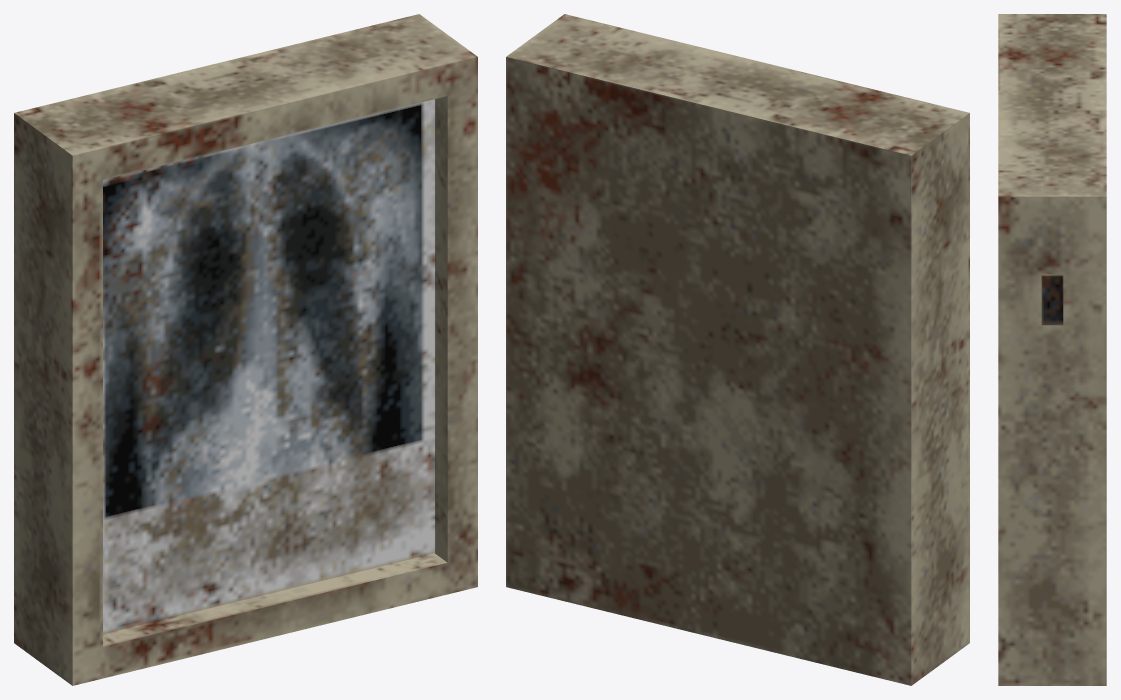
The model's file is x_ray_torax.fbx.
3 renders of one model, left to right at view 1: azimuth 30°, elevation 25°; view 2: azimuth 150°, elevation 25°; view 3: azimuth 270°, elevation 25°, orthographic. The views are drawn at different scales.
Visible parts, largest first — view 1: x_ray_torax; view 2: x_ray_torax; view 3: x_ray_torax.
Boxes of the visible parts, x1=… form: x_ray_torax: x1=14, y1=14, x2=477, y2=685; x_ray_torax: x1=506, y1=14, x2=969, y2=685; x_ray_torax: x1=998, y1=14, x2=1106, y2=685.
Size of the model in its own units: 40.82 by 50 by 10.
Materials: 1 (1 with a texture image).
